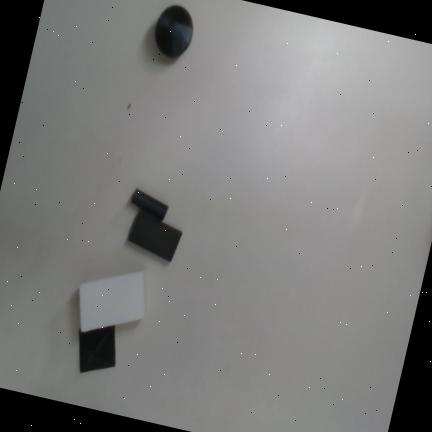Cilindro: (130, 188, 169, 221)
Esfera: (155, 5, 194, 58)
Paralelepipedo: (79, 271, 146, 333), (127, 209, 183, 263)
Piramide: (79, 326, 116, 373)
